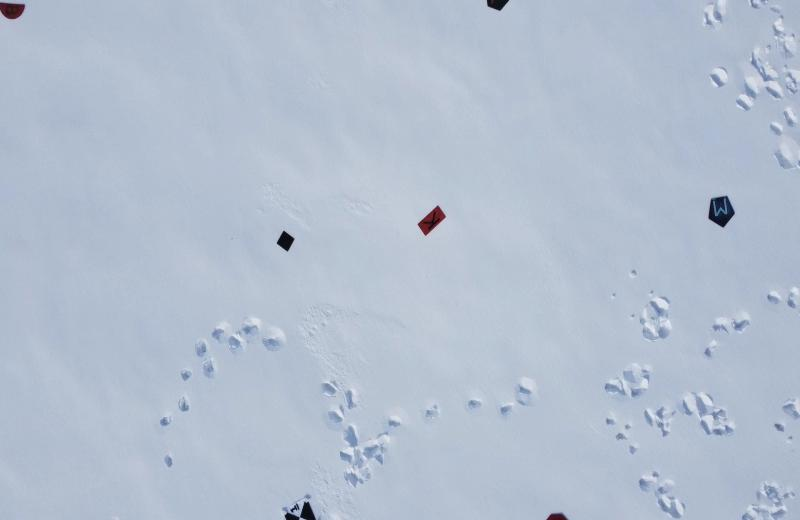Octagon: (541, 510, 571, 520)
Pentagon: (708, 194, 736, 228)
Rectangle: (418, 204, 446, 237)
Semi Circle: (0, 1, 28, 23)
Square: (276, 227, 296, 252)
